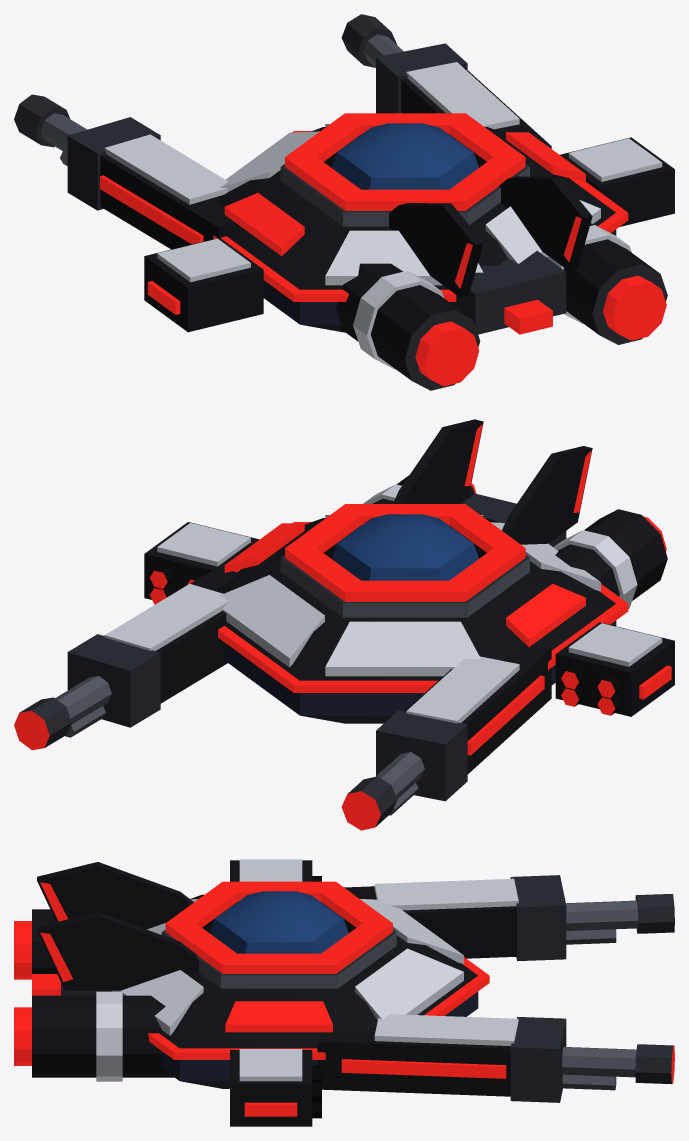
File: cryptos_saucer.glb
The picture shows the model from 3 angles, top to bottom: view 1: azimuth 30°, elevation 25°; view 2: azimuth 150°, elevation 25°; view 3: azimuth 270°, elevation 25°; orthographic projection. The views are drawn at different scales.
Parts seen in each view (by area): view 1: SJ_CRYPTOS; view 2: SJ_CRYPTOS; view 3: SJ_CRYPTOS.
Boxes of the visible parts, x1,y1,x2,y2 form: SJ_CRYPTOS: (14, 14, 674, 390); SJ_CRYPTOS: (14, 419, 674, 830); SJ_CRYPTOS: (14, 859, 674, 1126).
Size of the model in its own units: 3.28 by 1.06 by 4.01.
2 materials, 2 textured.
